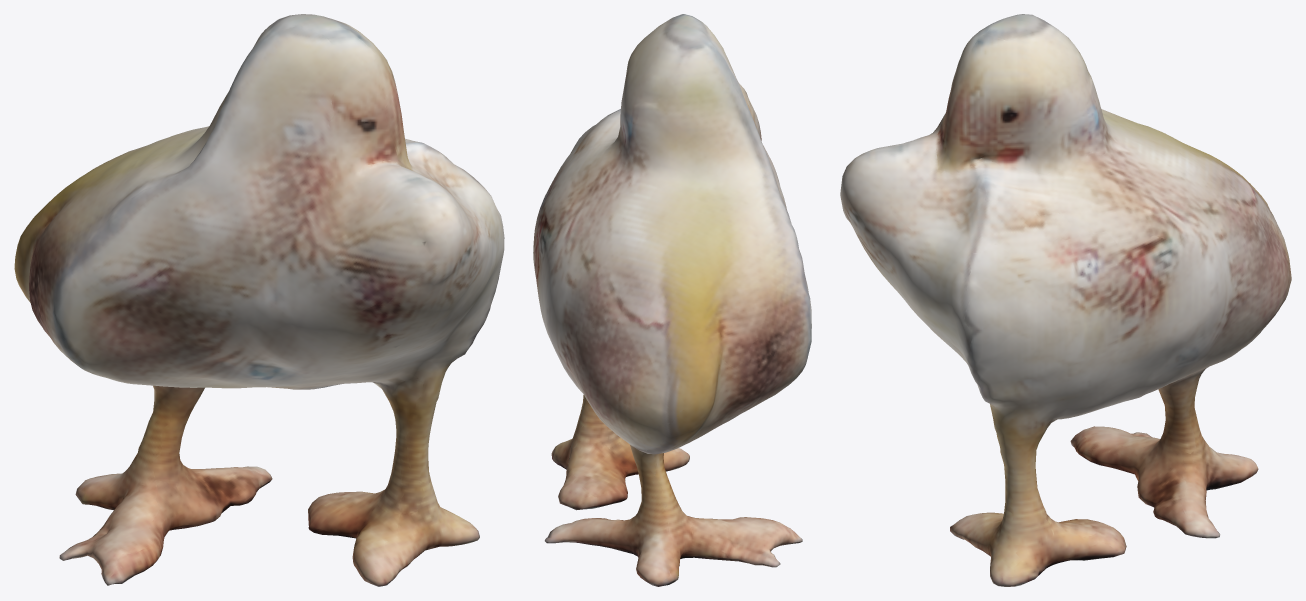
File: joven.glb
3 renders of one model, left to right at view 1: azimuth 30°, elevation 25°; view 2: azimuth 150°, elevation 25°; view 3: azimuth 270°, elevation 25°, orthographic. The views are drawn at different scales.
Parts seen in each view (by area): view 1: mesh; view 2: mesh; view 3: mesh.
Part boxes in pixels (x1=…): mesh: x1=14, y1=14, x2=504, y2=586; mesh: x1=533, y1=14, x2=811, y2=586; mesh: x1=840, y1=14, x2=1291, y2=586.
Bounding box in the file's own units: 1.13 × 1.62 × 1.33.
1 material, 1 textured.
